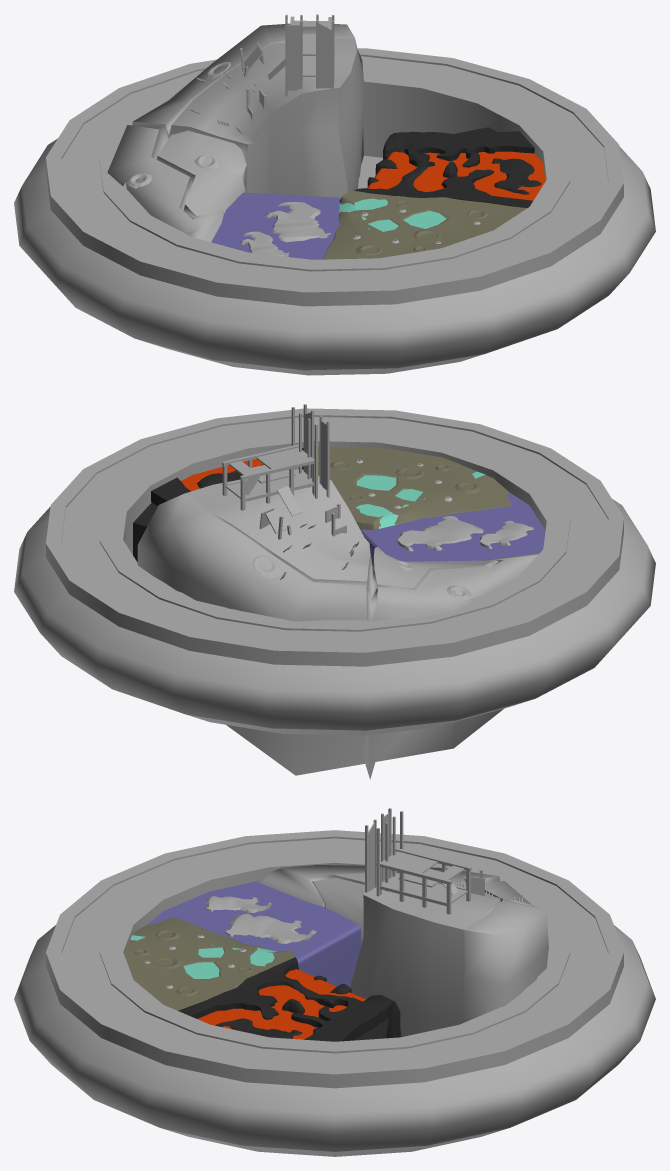
File: LevelIteration1.fbx
3 renders of one model, top to bottom at view 1: azimuth 30°, elevation 25°; view 2: azimuth 150°, elevation 25°; view 3: azimuth 270°, elevation 25°, orthographic.
Parts seen in each view (by area): view 1: pCylinder47, pCube19, polySurface2, polySurface1, pCube1, pCube2, pCube16, pPlane5, pCube12, pCube42, pCube41, pCube17; view 2: pCylinder47, pCube19, polySurface2, pCube1, pCube16, pPlane5, polySurface1, pCube17, polySurface6, polySurface4; view 3: pCylinder47, pCube19, pCube1, polySurface2, polySurface1, pCube2, pCube16, pPlane5, pCube17, polySurface6, pCube12, polySurface4.
Part boxes in pixels (box(x1,y1,x2,y2)): pCylinder47: box(14, 48, 655, 375); pCube19: box(107, 23, 364, 241); polySurface2: box(323, 190, 526, 259); polySurface1: box(354, 127, 534, 207); pCube1: box(211, 192, 340, 259); pCube2: box(367, 151, 545, 200); pCube16: box(265, 202, 331, 242); pPlane5: box(339, 198, 446, 231); pCube12: box(492, 158, 541, 194); pCube42: box(318, 22, 331, 88); pCube41: box(287, 24, 299, 90); pCube17: box(240, 231, 289, 256); pCylinder47: box(14, 408, 655, 735); pCube19: box(137, 469, 538, 779); polySurface2: box(314, 446, 512, 530); pCube1: box(361, 492, 545, 565); pCube16: box(397, 516, 483, 551); pPlane5: box(355, 471, 485, 528); polySurface1: box(133, 448, 303, 562); pCube17: box(480, 520, 533, 548); polySurface6: box(225, 469, 312, 498); polySurface4: box(256, 447, 313, 468); pCylinder47: box(14, 830, 655, 1156); pCube19: box(258, 865, 548, 1036); pCube1: box(147, 881, 360, 987); polySurface2: box(124, 917, 299, 1010); polySurface1: box(178, 957, 401, 1041); pCube2: box(197, 969, 366, 1039); pCube16: box(224, 913, 316, 943); pPlane5: box(130, 935, 277, 978); pCube17: box(205, 896, 271, 912); polySurface6: box(382, 873, 467, 903); pCube12: box(215, 1018, 302, 1038); polySurface4: box(381, 851, 437, 873).
Size of the model in its own units: 108 by 54.78 by 108.
